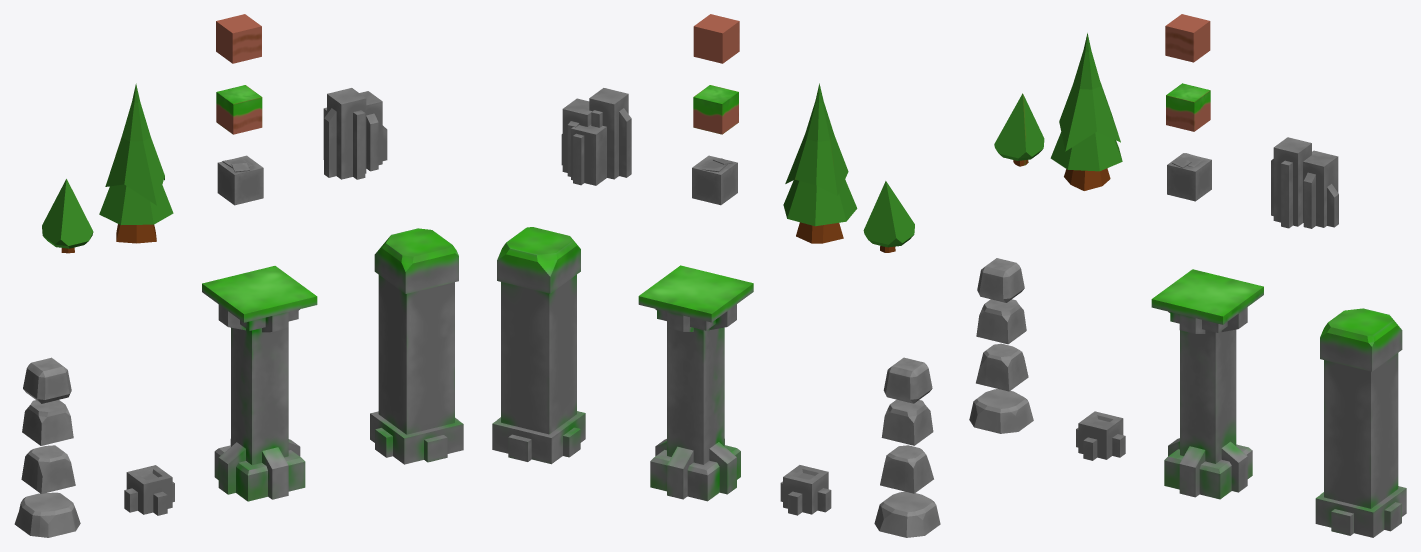
3 renders of one model, left to right at view 1: azimuth 30°, elevation 25°; view 2: azimuth 150°, elevation 25°; view 3: azimuth 330°, elevation 25°, orthographic. The views are drawn at different scales.
Parts seen in each view (by area): view 1: Cube.001, Cube.013, Cylinder, Cube.002, Cube.008, Cube.014, Cube.011, Cube, Cube.004, Cube.003, Cube.009, Cube.010 (+1 smaller); view 2: Cube.001, Cube.013, Cylinder, Cube.002, Cube.008, Cube.014, Cube.011, Cube, Cube.003, Cube.004, Cube.009, Cube.010 (+1 smaller); view 3: Cube.001, Cube.013, Cylinder, Cube.002, Cube.008, Cube.014, Cube.011, Cube, Cube.003, Cube.004, Cube.009, Cube.010 (+1 smaller).
Boxes of the visible parts, x1=… form: Cube.001: x1=370, y1=228, x2=463, y2=464; Cube.013: x1=202, y1=266, x2=317, y2=501; Cylinder: x1=99, y1=83, x2=173, y2=243; Cube.002: x1=323, y1=88, x2=387, y2=179; Cube.008: x1=14, y1=492, x2=80, y2=537; Cube.014: x1=42, y1=179, x2=93, y2=253; Cube.011: x1=124, y1=465, x2=174, y2=515; Cube: x1=21, y1=445, x2=75, y2=493; Cube.004: x1=216, y1=85, x2=262, y2=134; Cube.003: x1=216, y1=14, x2=261, y2=63; Cube.009: x1=22, y1=400, x2=73, y2=445; Cube.010: x1=23, y1=357, x2=71, y2=403; Cube.001: x1=492, y1=227, x2=585, y2=464; Cube.013: x1=638, y1=265, x2=753, y2=501; Cylinder: x1=783, y1=83, x2=857, y2=243; Cube.002: x1=561, y1=88, x2=631, y2=185; Cube.008: x1=874, y1=491, x2=940, y2=537; Cube.014: x1=863, y1=181, x2=914, y2=252; Cube.011: x1=780, y1=465, x2=831, y2=515; Cube: x1=880, y1=445, x2=933, y2=493; Cube.003: x1=693, y1=14, x2=739, y2=63; Cube.004: x1=693, y1=85, x2=738, y2=134; Cube.009: x1=881, y1=399, x2=933, y2=445; Cube.010: x1=883, y1=357, x2=932, y2=403; Cube.001: x1=1315, y1=308, x2=1406, y2=537; Cube.013: x1=1151, y1=269, x2=1263, y2=499; Cylinder: x1=1050, y1=33, x2=1122, y2=190; Cube.002: x1=1271, y1=137, x2=1338, y2=228; Cube.008: x1=969, y1=389, x2=1033, y2=433; Cube.014: x1=994, y1=93, x2=1044, y2=166; Cube.011: x1=1076, y1=411, x2=1125, y2=460; Cube: x1=976, y1=343, x2=1028, y2=391; Cube.003: x1=1165, y1=14, x2=1210, y2=62; Cube.004: x1=1166, y1=83, x2=1210, y2=131; Cube.009: x1=976, y1=299, x2=1026, y2=344; Cube.010: x1=977, y1=258, x2=1024, y2=302.
Size of the model in its own units: 2957 by 3050 by 511.
